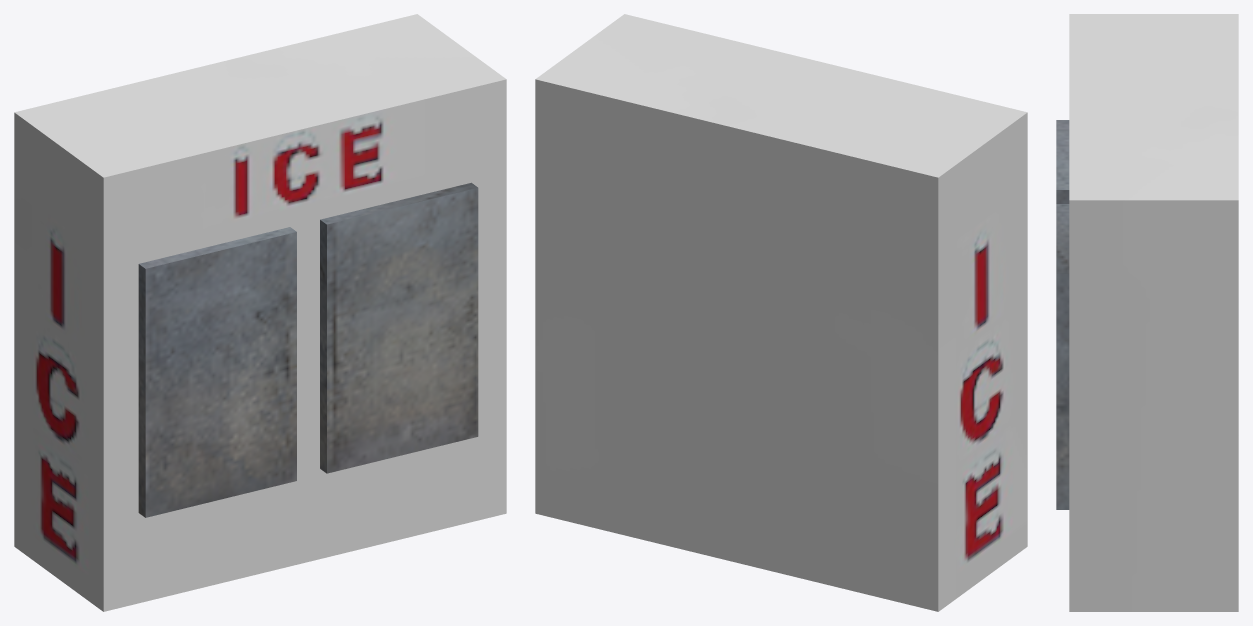
Rendered from prop-ice.glb.
3 views of the same model, side by side, from view 1: azimuth 30°, elevation 25°; view 2: azimuth 150°, elevation 25°; view 3: azimuth 270°, elevation 25° (orthographic). The views are drawn at different scales.
Visible parts, largest first — view 1: ICE; view 2: ICE; view 3: ICE.
Boxes of the visible parts, x1,y1,x2,y2 form: ICE: [14, 14, 506, 611]; ICE: [535, 14, 1027, 611]; ICE: [1056, 14, 1238, 611].
Size of the model in its own units: 1.97 by 2.02 by 0.8115.
1 material, 1 textured.
